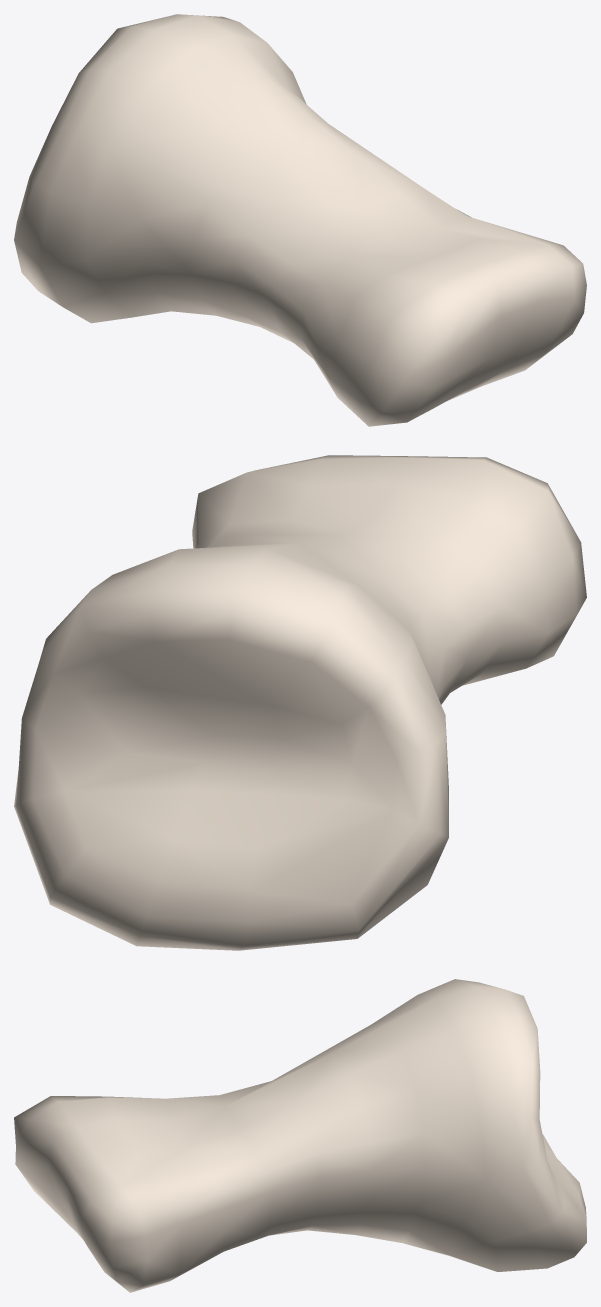
Rendered from left_toe_3_middle.glb.
3 views of the same model, one above another, from view 1: azimuth 30°, elevation 25°; view 2: azimuth 150°, elevation 25°; view 3: azimuth 270°, elevation 25° (orthographic). The views are drawn at different scales.
Visible parts, largest first — view 1: Middle phalanx of third finger of foot.r; view 2: Middle phalanx of third finger of foot.r; view 3: Middle phalanx of third finger of foot.r.
Part boxes in pixels (x1,y1,x2,y2): Middle phalanx of third finger of foot.r: (14, 14, 586, 426); Middle phalanx of third finger of foot.r: (14, 455, 586, 950); Middle phalanx of third finger of foot.r: (14, 979, 586, 1292).
Bounding box in the file's own units: 0.0112 × 0.00775 × 0.0162.
